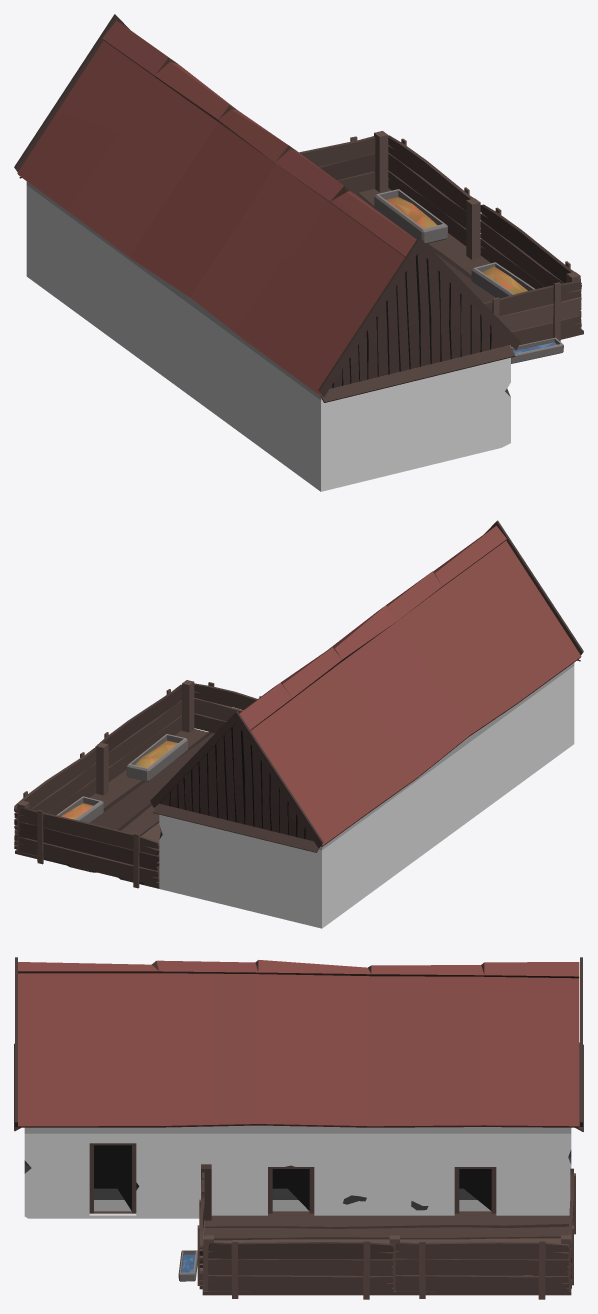
The model's file is SM_Piggery.fbx.
3 views of the same model, one above another, from view 1: azimuth 30°, elevation 25°; view 2: azimuth 150°, elevation 25°; view 3: azimuth 270°, elevation 25° (orthographic). The views are drawn at different scales.
Visible parts, largest first — view 1: SM_Piggery; view 2: SM_Piggery; view 3: SM_Piggery.
Boxes of the visible parts, box(x1,y1,x2,y2) form: SM_Piggery: box(14, 14, 583, 491); SM_Piggery: box(14, 520, 583, 928); SM_Piggery: box(14, 957, 583, 1299).
Size of the model in its own units: 905 by 557 by 1304.
Materials: 1 (1 with a texture image).
